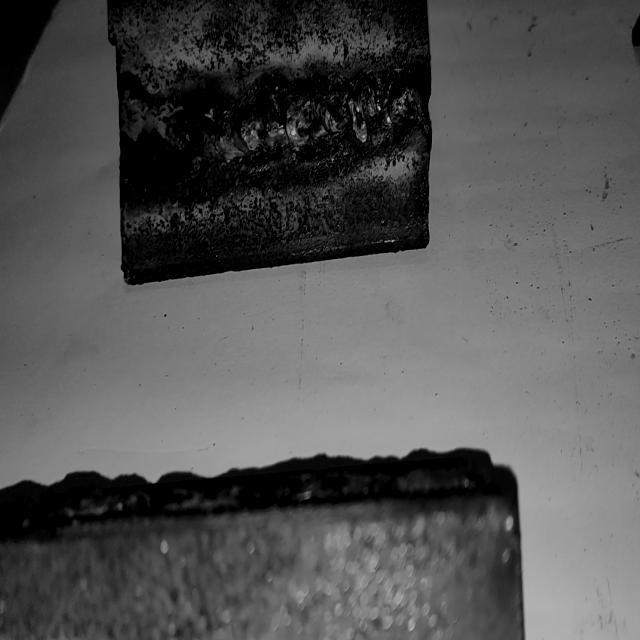Welding Line: (129, 68, 424, 185)
Workpiece: (120, 0, 430, 270)
